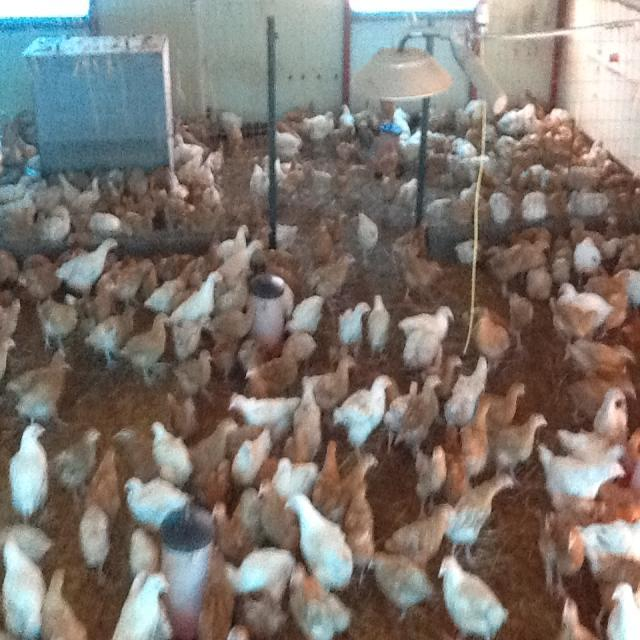poussin: (284, 492, 356, 594), (438, 473, 518, 561), (433, 554, 512, 639), (536, 447, 624, 512), (564, 520, 640, 594), (364, 545, 435, 624), (8, 347, 76, 427), (528, 502, 586, 595), (334, 374, 392, 466), (286, 561, 354, 639), (202, 298, 262, 378), (0, 540, 48, 638), (6, 422, 52, 522), (484, 411, 550, 480), (383, 499, 454, 563), (210, 485, 272, 556), (395, 370, 446, 456), (229, 382, 306, 438), (487, 234, 552, 300), (114, 571, 175, 640), (40, 554, 86, 640), (120, 311, 170, 390), (48, 427, 102, 499), (542, 290, 604, 352), (228, 546, 294, 604), (398, 306, 456, 372), (184, 419, 241, 486), (442, 354, 492, 430), (18, 247, 81, 306), (124, 476, 190, 532), (83, 307, 139, 373), (256, 476, 306, 548), (100, 252, 173, 301), (31, 290, 86, 354), (562, 378, 638, 422), (59, 236, 118, 292), (344, 485, 376, 585), (228, 588, 290, 639), (196, 557, 234, 640), (582, 272, 630, 337), (142, 260, 202, 312), (332, 450, 382, 512), (558, 282, 617, 334), (170, 270, 223, 327), (77, 492, 108, 586), (306, 252, 356, 310), (84, 444, 124, 516), (384, 378, 424, 450), (394, 243, 444, 299), (556, 422, 629, 460), (246, 350, 302, 399), (564, 342, 636, 380), (291, 374, 320, 466), (150, 422, 193, 484), (460, 396, 492, 479), (481, 380, 530, 432), (308, 354, 356, 407), (232, 428, 276, 485), (412, 441, 447, 512), (591, 382, 633, 441), (214, 236, 265, 284), (442, 426, 472, 506), (564, 216, 618, 259), (173, 348, 218, 398), (501, 286, 534, 354), (274, 450, 318, 500), (171, 310, 211, 364), (0, 182, 36, 241), (471, 310, 508, 366), (311, 438, 342, 504), (552, 157, 608, 193), (334, 300, 371, 354), (208, 223, 253, 267), (166, 388, 202, 442), (605, 584, 640, 639), (214, 266, 254, 314), (284, 294, 326, 338), (602, 232, 640, 277), (144, 164, 184, 206), (72, 172, 106, 221), (310, 212, 342, 264), (496, 101, 540, 138), (367, 292, 392, 356), (276, 112, 308, 162), (248, 155, 287, 196), (34, 206, 73, 247), (557, 597, 595, 639), (571, 184, 614, 220), (434, 352, 466, 397), (496, 134, 538, 168), (130, 532, 160, 579), (259, 220, 306, 250), (572, 238, 600, 288), (459, 151, 499, 186), (526, 102, 567, 136), (518, 164, 563, 194), (280, 328, 318, 363), (550, 233, 576, 284), (524, 260, 554, 304), (123, 202, 164, 234), (572, 158, 614, 189), (400, 126, 426, 176), (446, 134, 476, 177), (354, 208, 377, 264), (0, 172, 32, 212), (0, 294, 22, 351), (454, 181, 480, 229), (218, 104, 245, 150), (540, 132, 576, 166), (34, 174, 64, 214), (454, 99, 490, 132), (302, 111, 340, 142), (85, 210, 126, 238), (162, 196, 197, 228), (615, 270, 640, 313), (423, 192, 452, 227), (174, 130, 203, 164), (488, 188, 514, 225), (56, 170, 84, 204), (522, 190, 548, 224), (128, 160, 148, 204), (0, 327, 15, 384), (579, 136, 605, 168), (178, 153, 202, 184), (341, 102, 358, 142), (205, 145, 229, 173), (549, 188, 570, 218), (552, 126, 578, 150), (392, 105, 410, 136), (201, 182, 221, 208), (197, 161, 214, 189)
